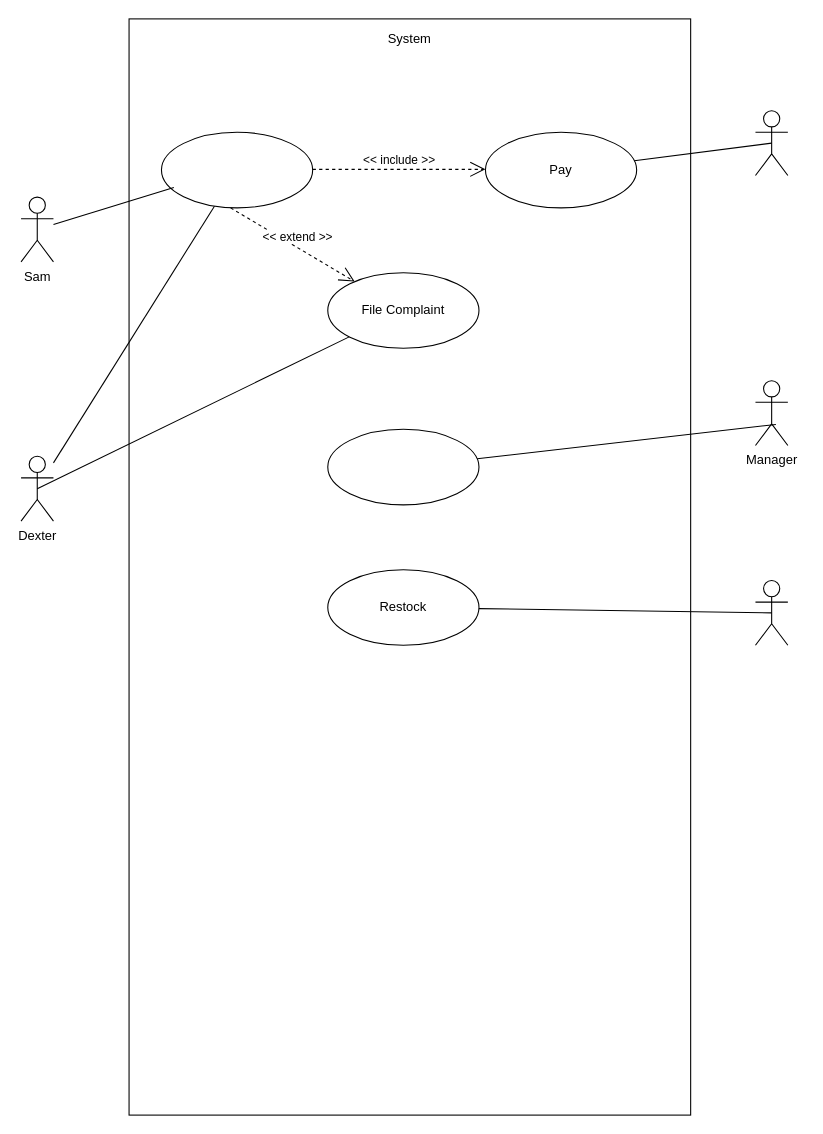
Some shapes in this 823 by 1134 pixel diagram are drawn without their labels. Each missing label, with the box of its shape:
Buy Mangos: (160, 131, 313, 208)
Cashier: (754, 110, 788, 176)
Order Mangos: (327, 428, 479, 505)
Stock Clerk: (754, 579, 788, 645)
